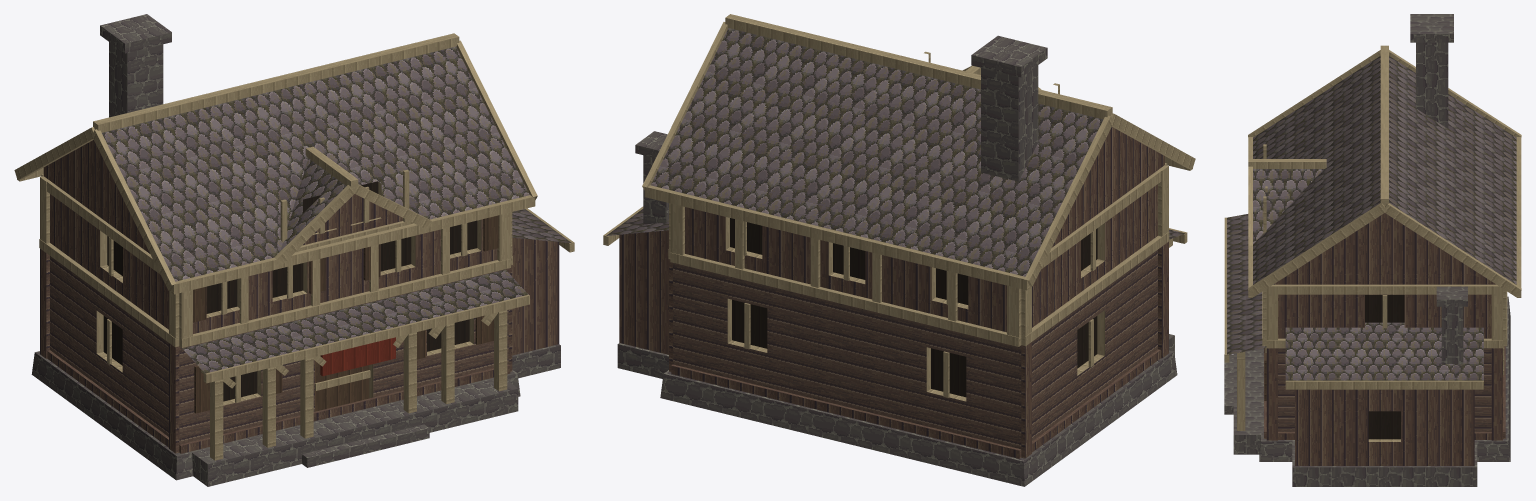
File: tavern_stage3.glb
The picture shows the model from 3 angles, left to right: view 1: azimuth 30°, elevation 25°; view 2: azimuth 150°, elevation 25°; view 3: azimuth 270°, elevation 25°; orthographic projection. The views are drawn at different scales.
Parts seen in each view (by area): view 1: tavern_stage3; view 2: tavern_stage3; view 3: tavern_stage3.
Boxes of the visible parts, x1,y1,x2,y2 form: tavern_stage3: [14, 14, 574, 486]; tavern_stage3: [603, 14, 1195, 486]; tavern_stage3: [1224, 14, 1521, 486].
Bounding box in the file's own units: 9.02 × 7.4 × 6.3.
8 materials, 8 textured.
